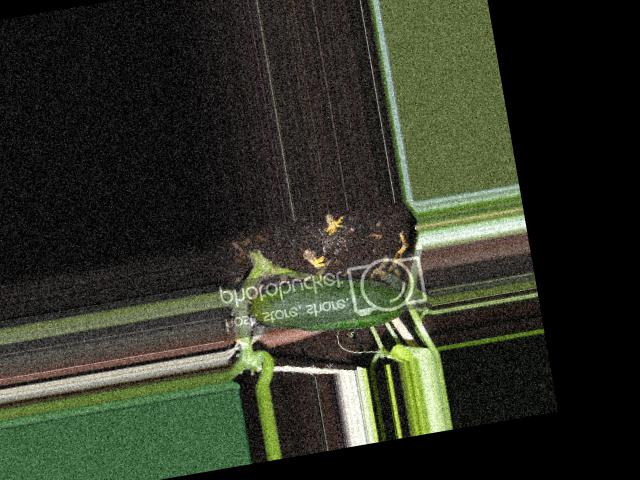cucumber: (248, 264, 407, 345)
